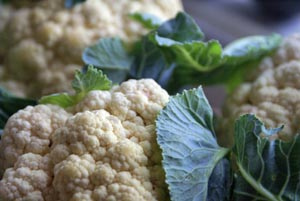cauliflower: (0, 77, 170, 200), (5, 0, 183, 107), (221, 32, 299, 148)
